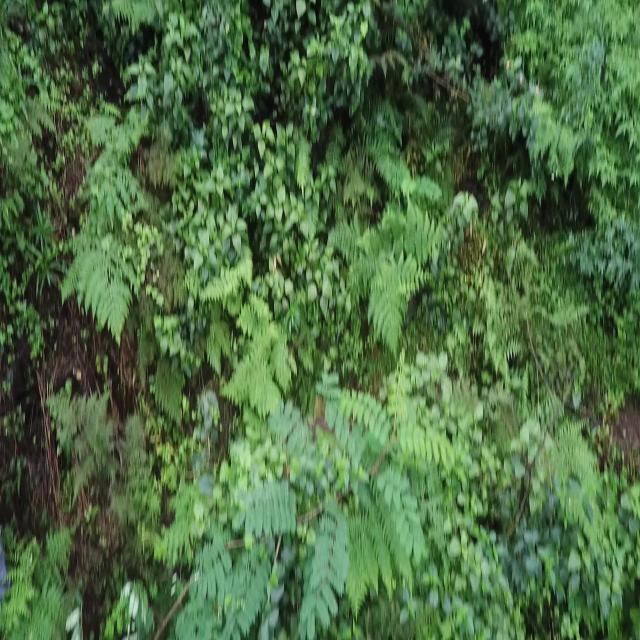Mysore-Thorn-Weed: (190, 336, 456, 640)
